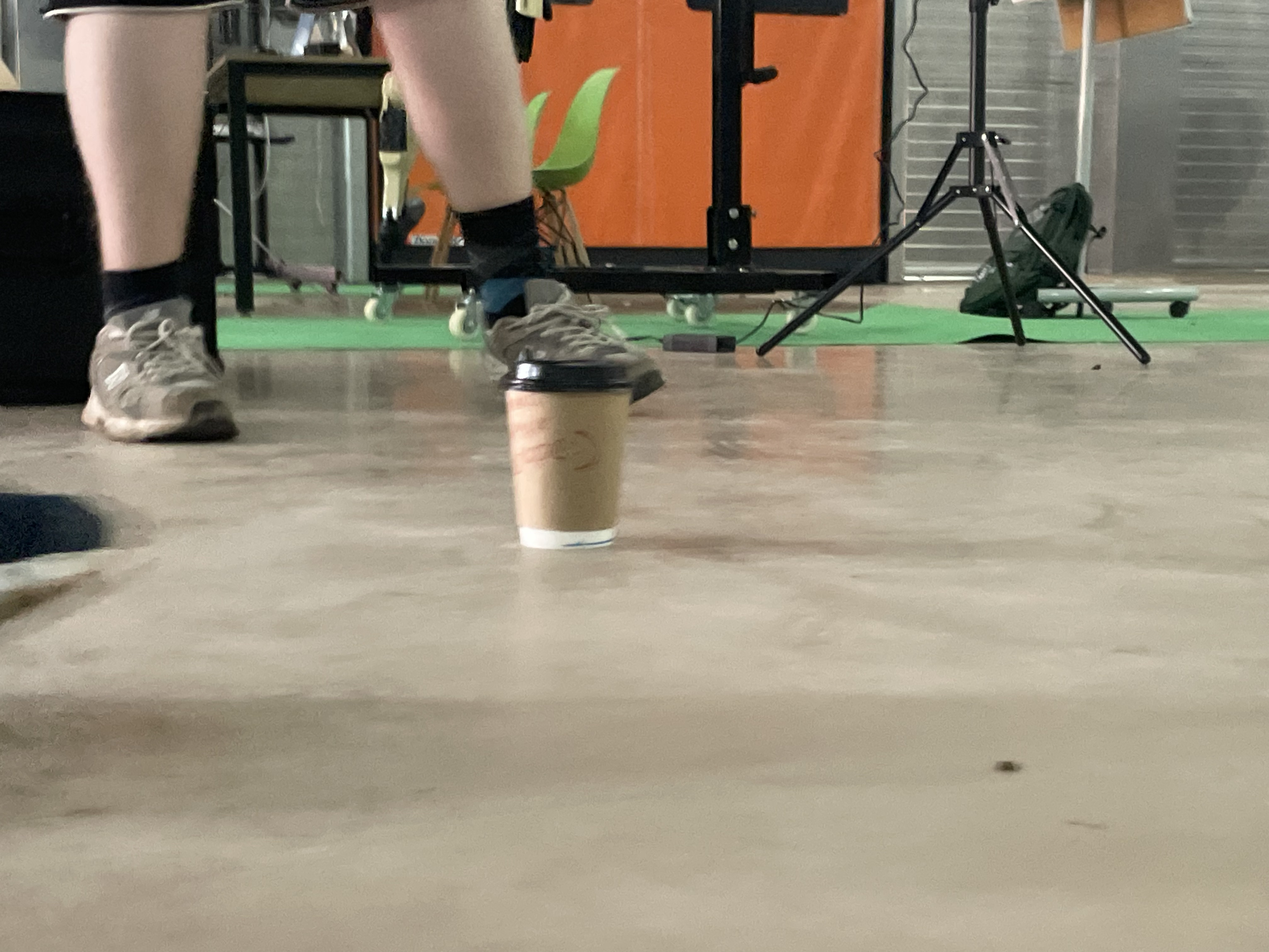cup: (501, 349, 635, 550)
